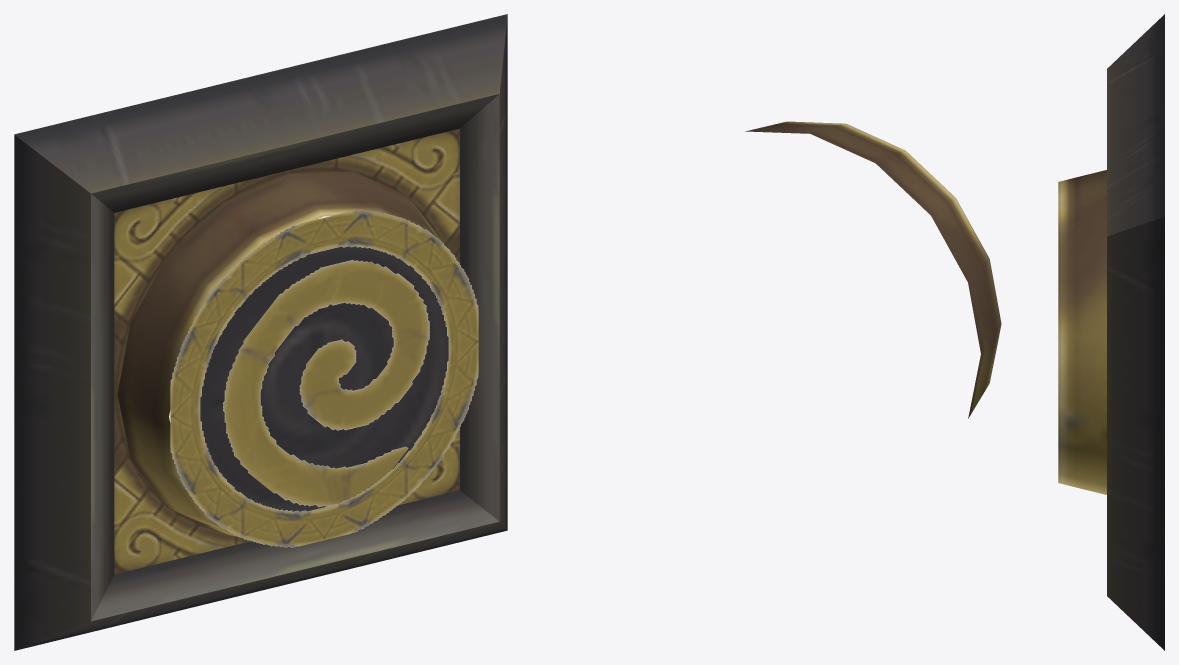
3 renders of one model, left to right at view 1: azimuth 30°, elevation 25°; view 2: azimuth 150°, elevation 25°; view 3: azimuth 270°, elevation 25°, orthographic. The views are drawn at different scales.
Visible parts, largest first — view 1: clockwork_button.model-MeshNodes["mesh_base"], clockwork_button.model-MeshNodes["mesh_button"]; view 2: clockwork_button.model-MeshNodes["mesh_button"]; view 3: clockwork_button.model-MeshNodes["mesh_base"], clockwork_button.model-MeshNodes["mesh_button"].
Part boxes in pixels (x1=…): clockwork_button.model-MeshNodes["mesh_base"]: x1=14, y1=14, x2=507, y2=650; clockwork_button.model-MeshNodes["mesh_button"]: x1=117, y1=171, x2=478, y2=547; clockwork_button.model-MeshNodes["mesh_button"]: x1=745, y1=121, x2=1001, y2=418; clockwork_button.model-MeshNodes["mesh_base"]: x1=1107, y1=14, x2=1164, y2=650; clockwork_button.model-MeshNodes["mesh_button"]: x1=1058, y1=170, x2=1106, y2=494.
Bounding box in the file's own units: 1 × 1 × 0.223.
1 material, 1 textured.
